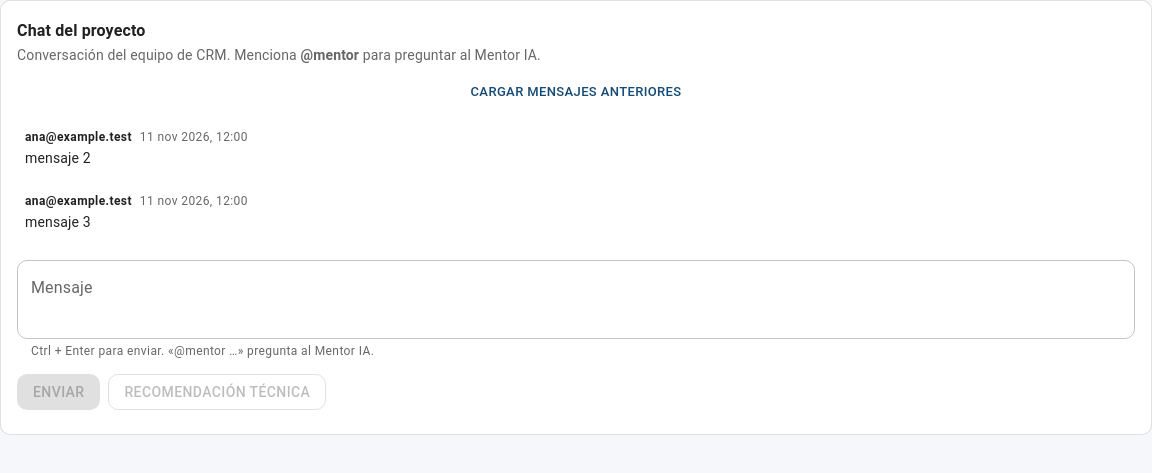
it: ProjectChatPanel (CU-2P-08) › carga mensajes anteriores con el cursor del servidor
Step 1. Click the button "Cargar mensajes anteriores" → (576, 92), box [17, 77, 1135, 108]
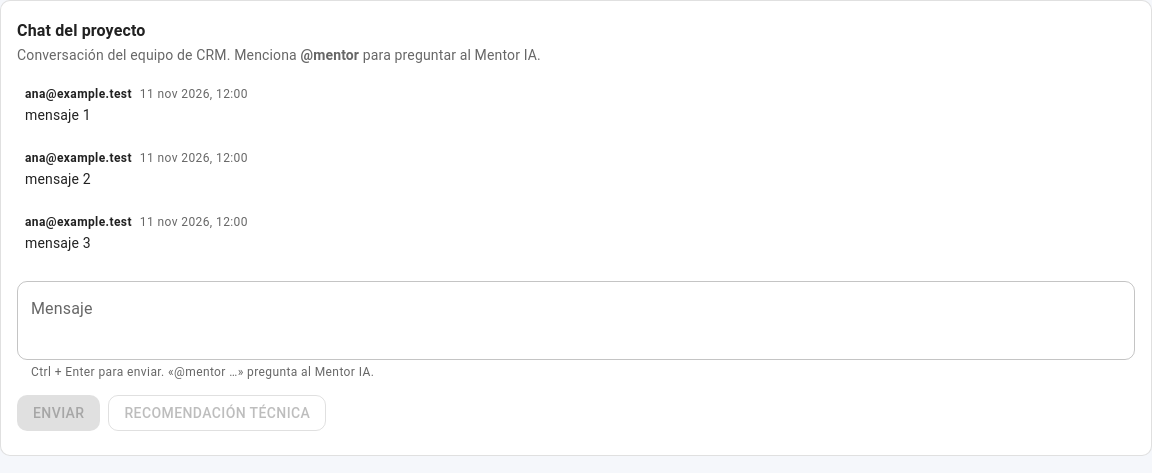
Now the text "mensaje 1" is shown, box [25, 107, 91, 123]
Now the button "Cargar mensajes anteriores" is gone
